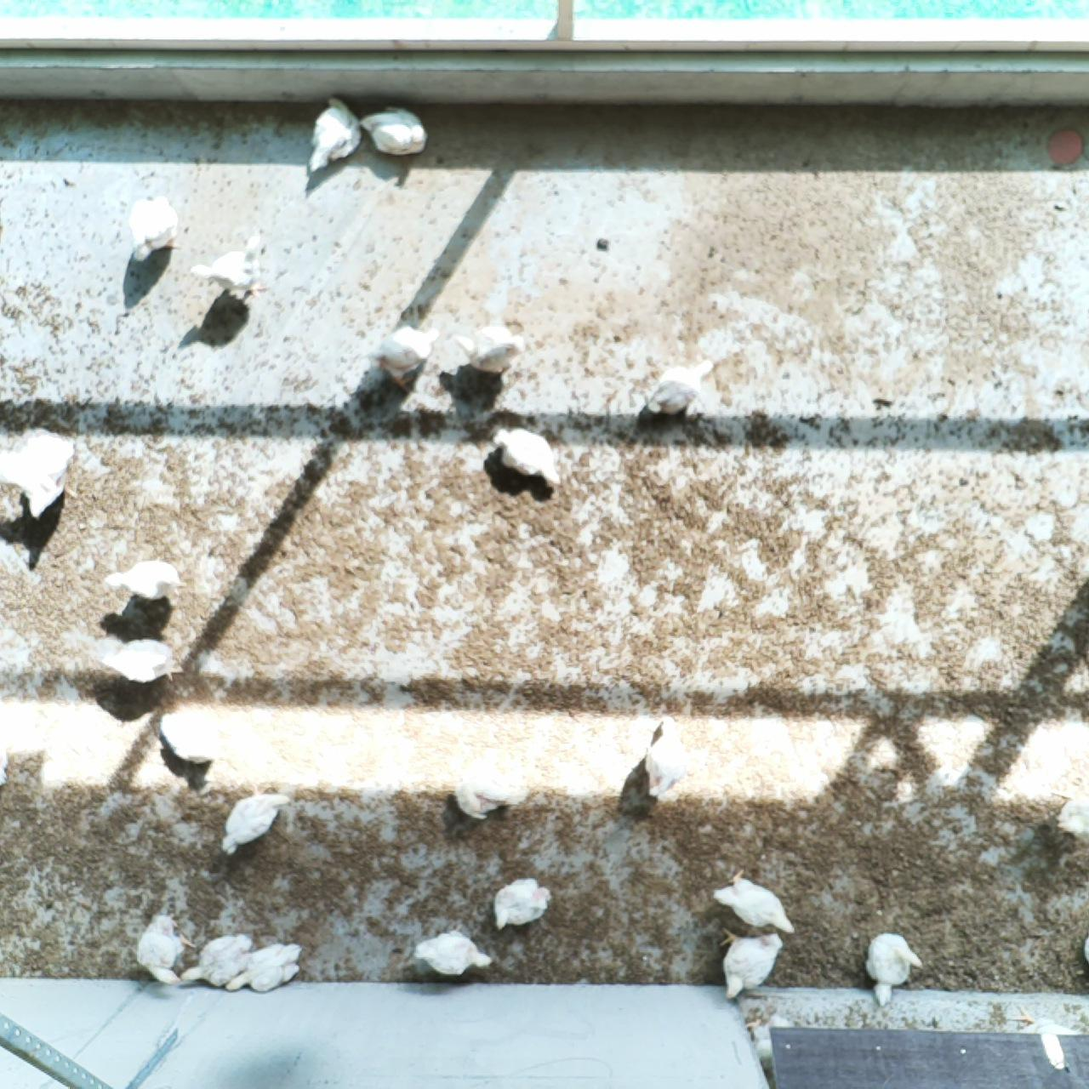chicken: (0, 419, 78, 522), (173, 928, 260, 994), (713, 870, 794, 936), (187, 233, 269, 297), (487, 424, 564, 489), (444, 320, 526, 381), (717, 927, 784, 1001), (863, 928, 924, 1009), (453, 757, 529, 822), (639, 709, 693, 799), (371, 320, 442, 388), (224, 939, 307, 994), (222, 789, 290, 855), (137, 909, 194, 984), (413, 928, 492, 982), (306, 94, 360, 169), (125, 190, 181, 262), (101, 637, 184, 685), (158, 709, 217, 775), (359, 101, 426, 155), (493, 874, 552, 930), (105, 559, 180, 603), (1076, 925, 1089, 968)
